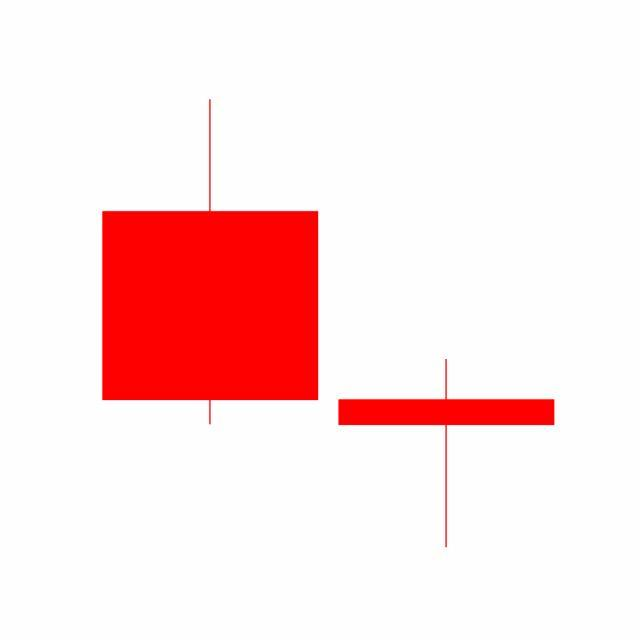Spinning Top: (328, 358, 566, 550)
